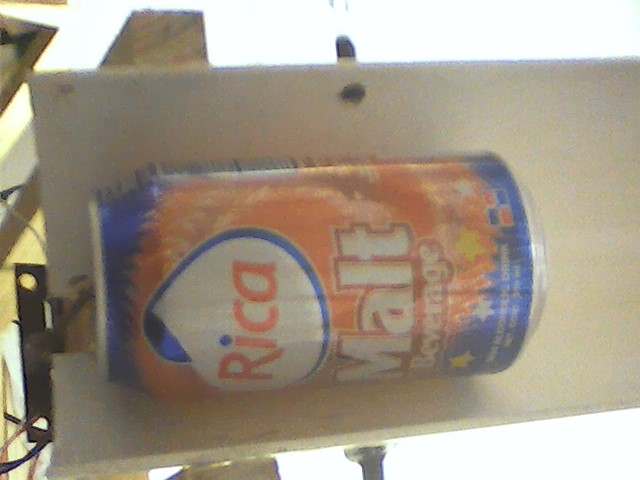lata: (83, 145, 557, 413)
